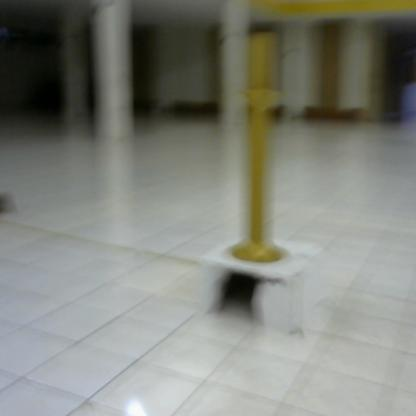pole: (220, 30, 299, 267)
